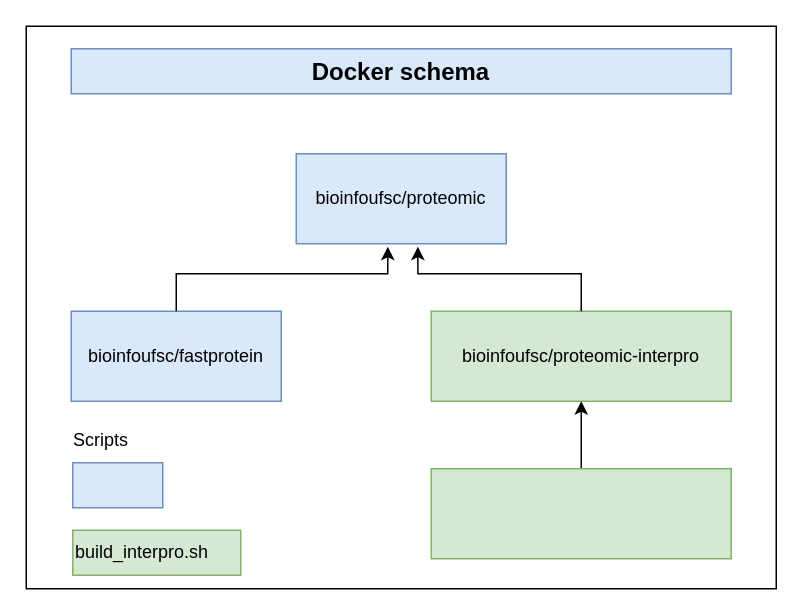
Image size: 803x615. Some labels were removed from this diagram. The shapes that lost their labels are listed below. From the top down, each one's box as (x1, y1, x2, y2) in pixels, then its label:
(71, 461, 163, 508): build.sh
(430, 467, 731, 559): bioinfoufsc/fastprotein-interpro
